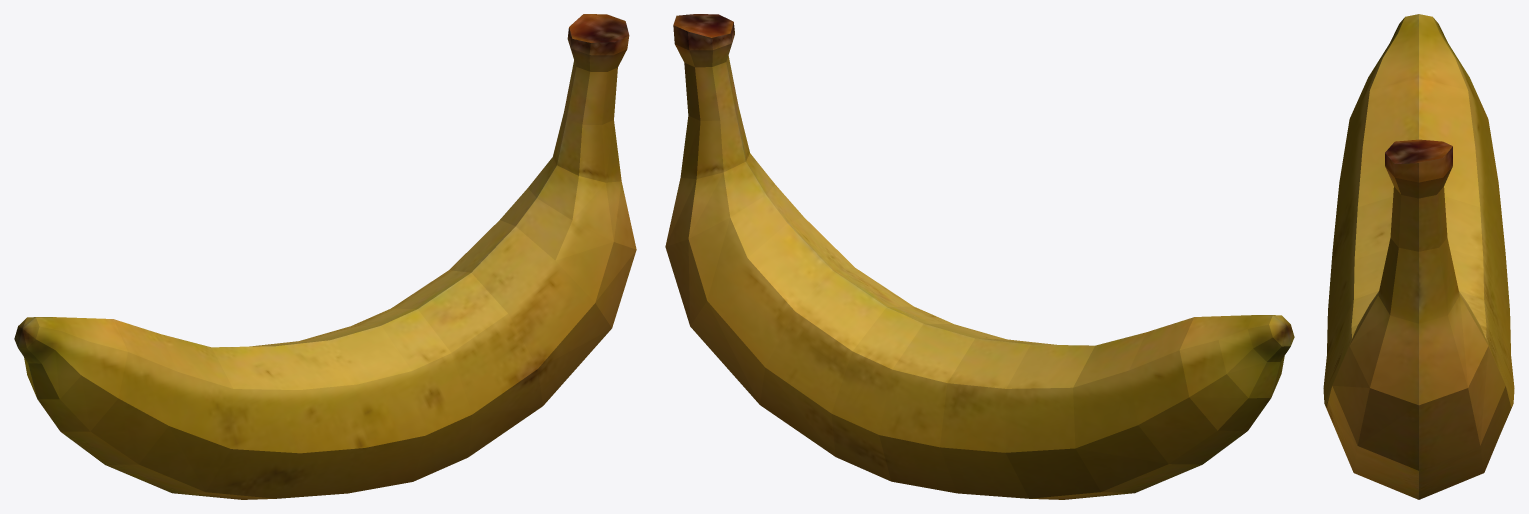
The model's file is Banana.obj.
3 views of the same model, side by side, from view 1: azimuth 30°, elevation 25°; view 2: azimuth 150°, elevation 25°; view 3: azimuth 270°, elevation 25° (orthographic). The views are drawn at different scales.
Visible parts, largest first — view 1: Cylinder; view 2: Cylinder; view 3: Cylinder.
Boxes of the visible parts, box(x1,y1,x2,y2) form: Cylinder: box(14, 14, 636, 499); Cylinder: box(665, 14, 1294, 499); Cylinder: box(1323, 14, 1514, 499).
Size of the model in its own units: 9.38 by 5.95 by 2.31.
